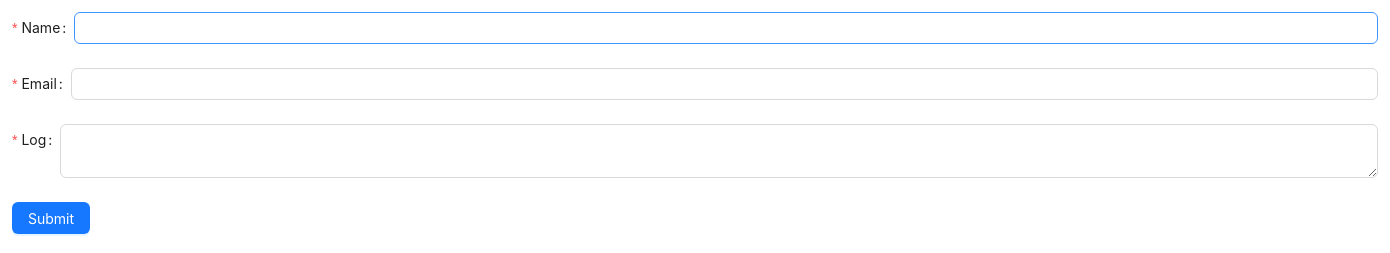
Test: LogForm › shows error message when form is submitted with invalid data
This screenshot has width=1390, height=253.
In the field labelled "Email": (724, 84) [71,68,1378,100], type "invalid email"
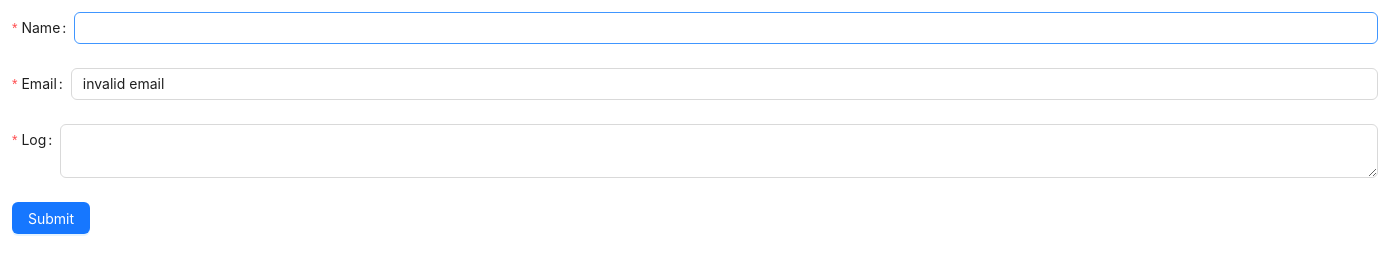
In the text box labelled "Log": (719, 151) [60,124,1378,178], type "invalid log"
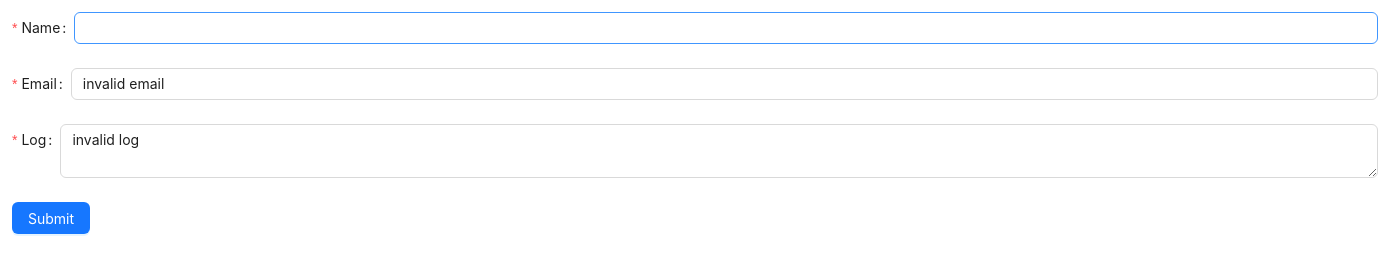
Click the button "Submit": (51, 218) [12,202,90,234]
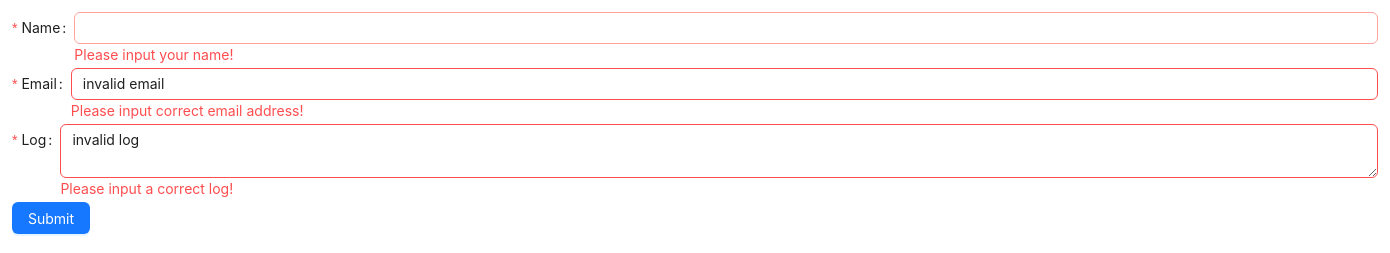
Result: the text "Please input your name!" is shown at [74,46,233,63]
Result: the text "Please input correct email address!" is shown at [71,102,303,119]
Result: the text "Please input a correct log!" is shown at [60,180,233,197]
